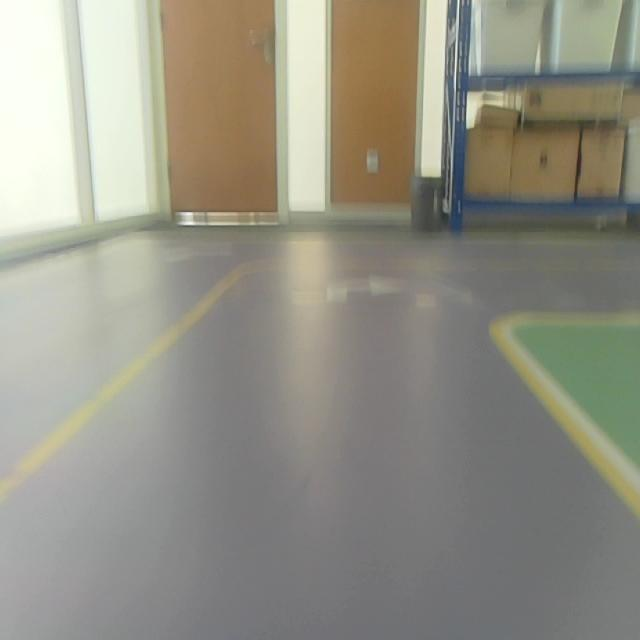left_lane: (0, 270, 242, 503)
right_lane: (493, 335, 640, 525)
